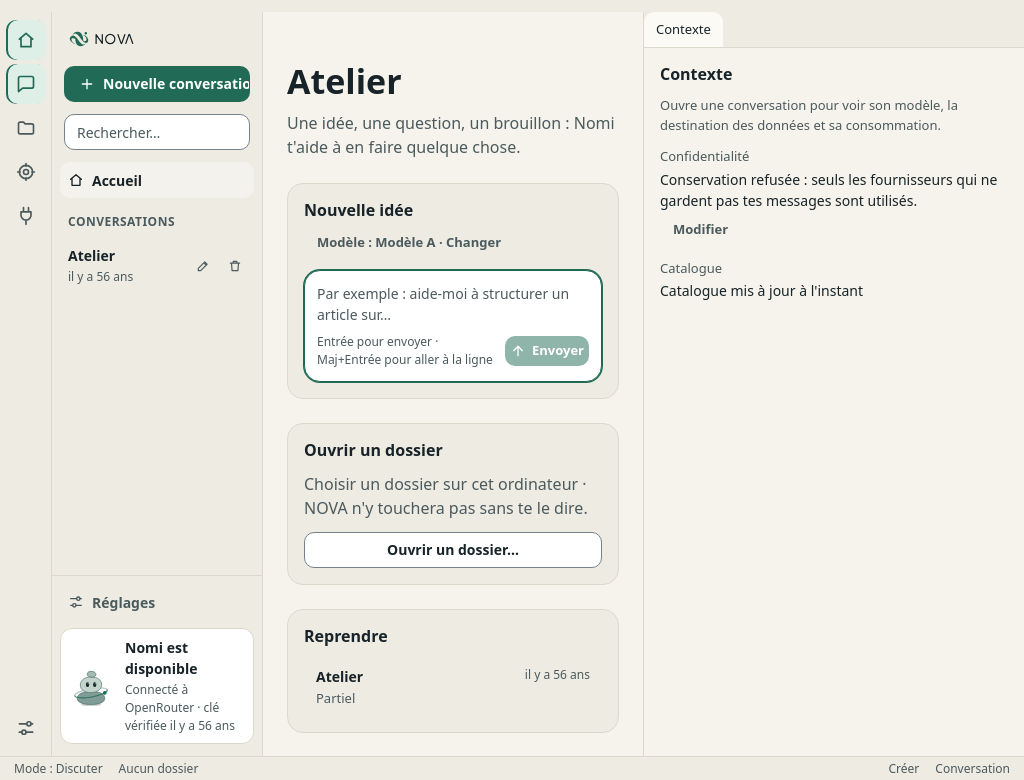
Scenario: new provider outcomes › filtered has French copy and its follow-up
This screenshot has width=1024, height=780.
Click the button "Atelier il y a 56 ans": (124,266) [60, 237, 188, 294]
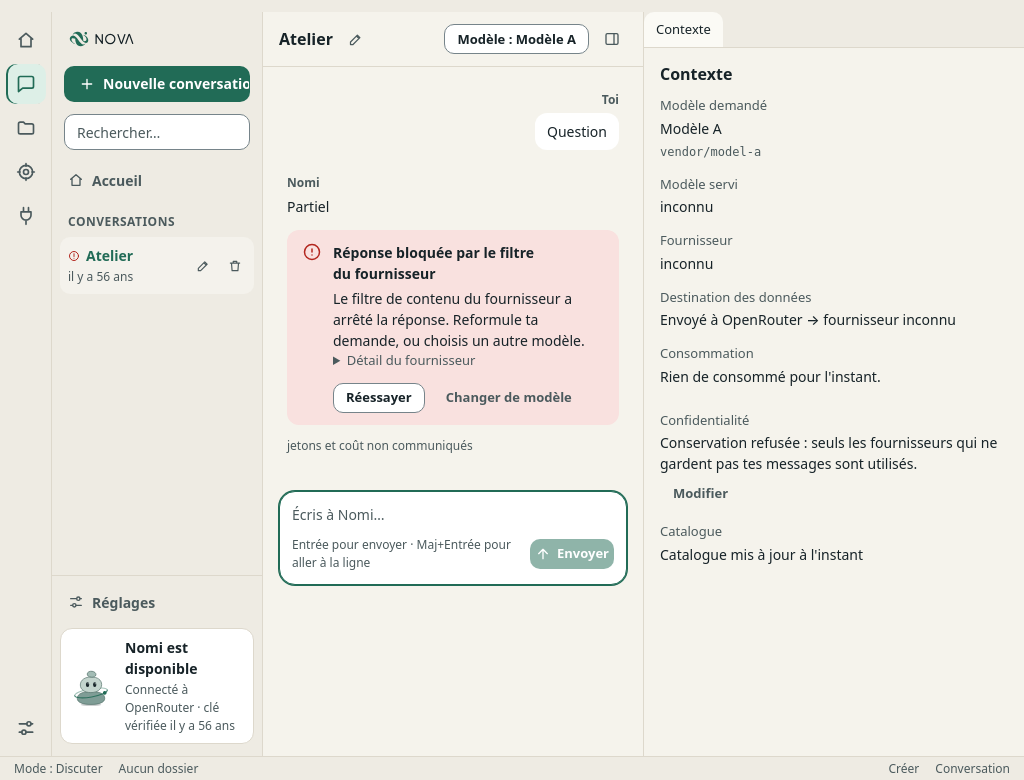
Now the text "Réponse bloquée par le filtre du fournisseur" is shown, box [333, 243, 534, 283]
Now the button "Changer de modèle" is shown, box [433, 383, 585, 413]
